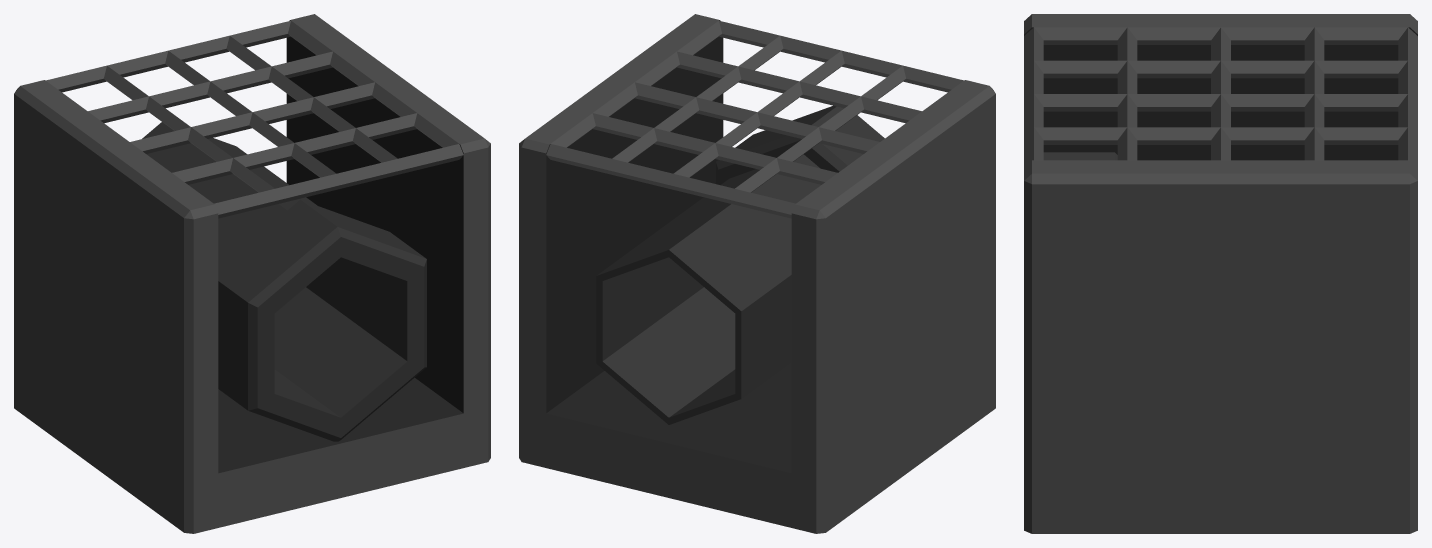
The model's file is HJD_SFB_Platform_Pipe_01.fbx.
3 renders of one model, left to right at view 1: azimuth 30°, elevation 25°; view 2: azimuth 150°, elevation 25°; view 3: azimuth 270°, elevation 25°, orthographic. The views are drawn at different scales.
Visible parts, largest first — view 1: HJD_SFB_Asset; view 2: HJD_SFB_Asset; view 3: HJD_SFB_Asset.
Boxes of the visible parts, bbox=[...] form: HJD_SFB_Asset: bbox=[14, 14, 490, 533]; HJD_SFB_Asset: bbox=[519, 14, 995, 533]; HJD_SFB_Asset: bbox=[1024, 14, 1417, 533].
Bounding box in the file's own units: 100 × 100 × 100.
